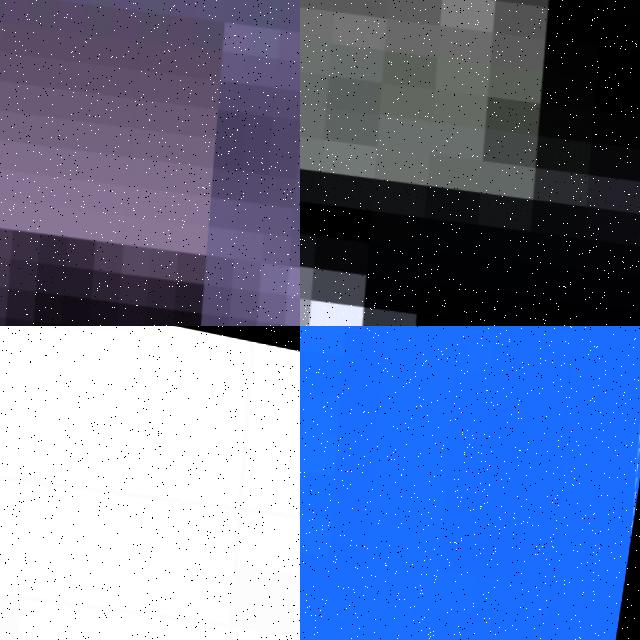drone: (300, 0, 640, 326), (300, 326, 640, 640), (0, 0, 300, 326), (0, 326, 300, 640)
